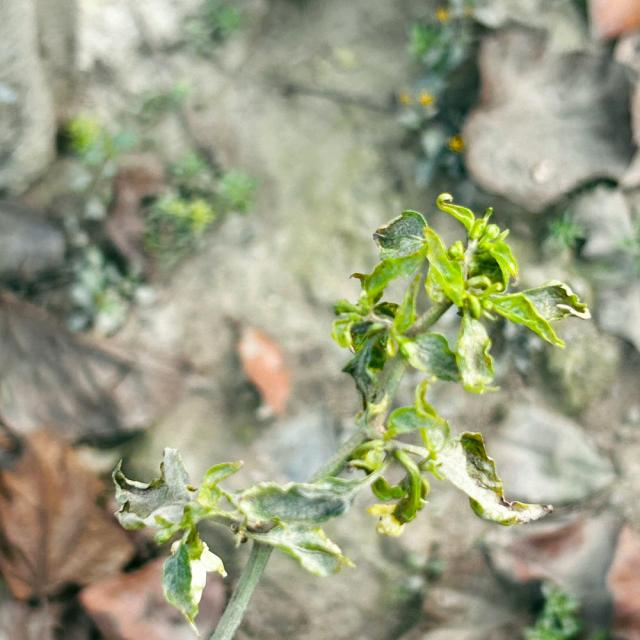Chilli_Leaf_Curl: (110, 191, 591, 635), (329, 190, 592, 535), (110, 445, 364, 634), (431, 429, 554, 527)
